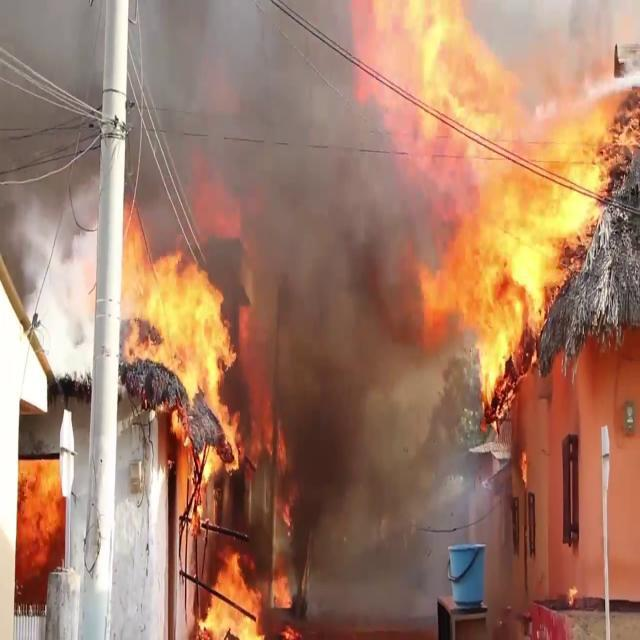Fire: (382, 1, 638, 400), (122, 203, 246, 512), (194, 542, 298, 638)
Smoke: (228, 0, 451, 573), (146, 0, 436, 278), (0, 0, 106, 330)
